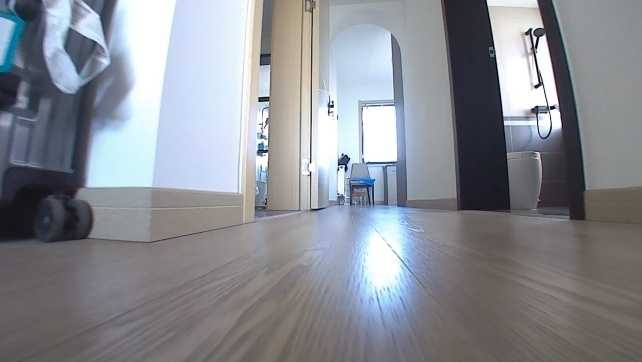door_anno: (267, 0, 339, 210)
toilet: (508, 147, 540, 210)
